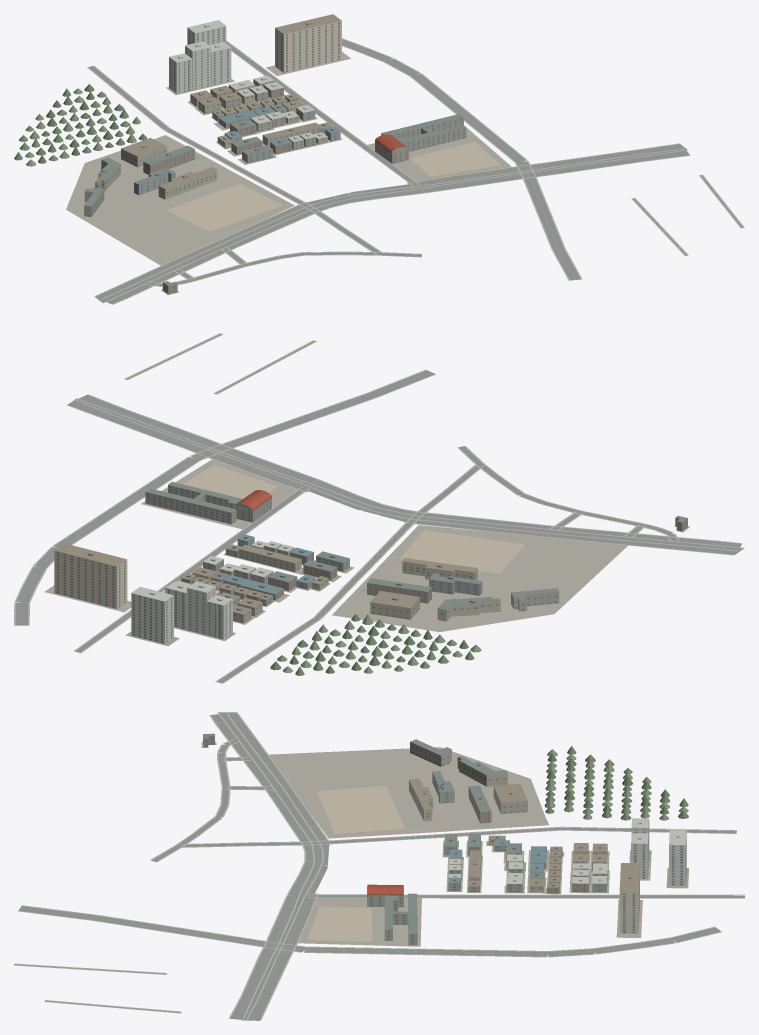
3 renders of one model, top to bottom at view 1: azimuth 30°, elevation 25°; view 2: azimuth 150°, elevation 25°; view 3: azimuth 270°, elevation 25°, orthographic. The views are drawn at different scales.
Visible parts, largest first — view 1: context-osm-buildings, context-building-plinths, context-osm-roads, context-osm-sidewalks, context-west-woodland; view 2: context-osm-buildings, context-building-plinths, context-osm-roads, context-osm-sidewalks, context-west-woodland; view 3: context-building-plinths, context-osm-roads, context-osm-buildings, context-osm-sidewalks, context-west-woodland.
Boxes of the visible parts, left/top/right/bottom form: context-osm-buildings: left=84, top=14, right=466, bottom=294; context-building-plinths: left=66, top=52, right=511, bottom=294; context-osm-roads: left=88, top=39, right=743, bottom=304; context-osm-sidewalks: left=87, top=38, right=744, bottom=304; context-west-woodland: left=14, top=84, right=146, bottom=166; context-osm-buildings: left=54, top=481, right=687, bottom=644; context-building-plinths: left=45, top=459, right=689, bottom=646; context-osm-roads: left=15, top=333, right=743, bottom=683; context-osm-sidewalks: left=14, top=333, right=744, bottom=683; context-west-woodland: left=270, top=614, right=481, bottom=675; context-building-plinths: left=201, top=741, right=688, bottom=946; context-osm-roads: left=14, top=712, right=744, bottom=1020; context-osm-buildings: left=203, top=733, right=686, bottom=945; context-osm-sidewalks: left=14, top=712, right=744, bottom=1020; context-west-woodland: left=544, top=746, right=688, bottom=820.
Size of the model in its own units: 721 by 47.47 by 723.
